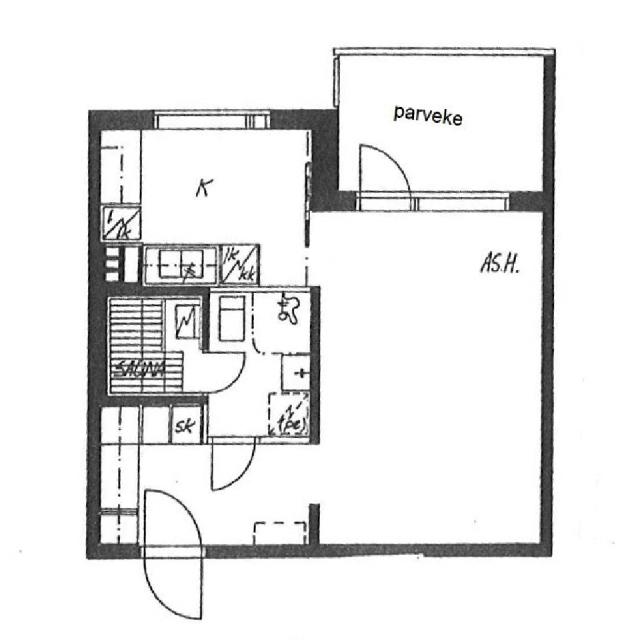door: (144, 486, 201, 558), (144, 545, 201, 617), (360, 141, 409, 211), (212, 436, 255, 488), (202, 353, 247, 393)
